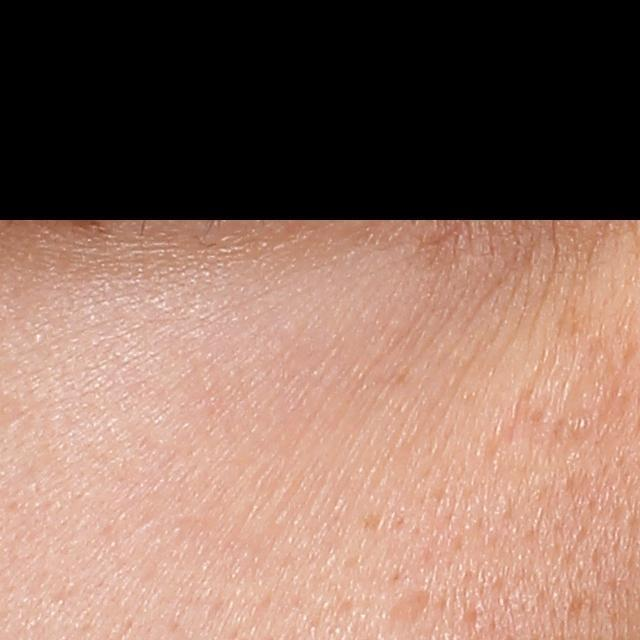atrophic_scar: (385, 587, 437, 632)
